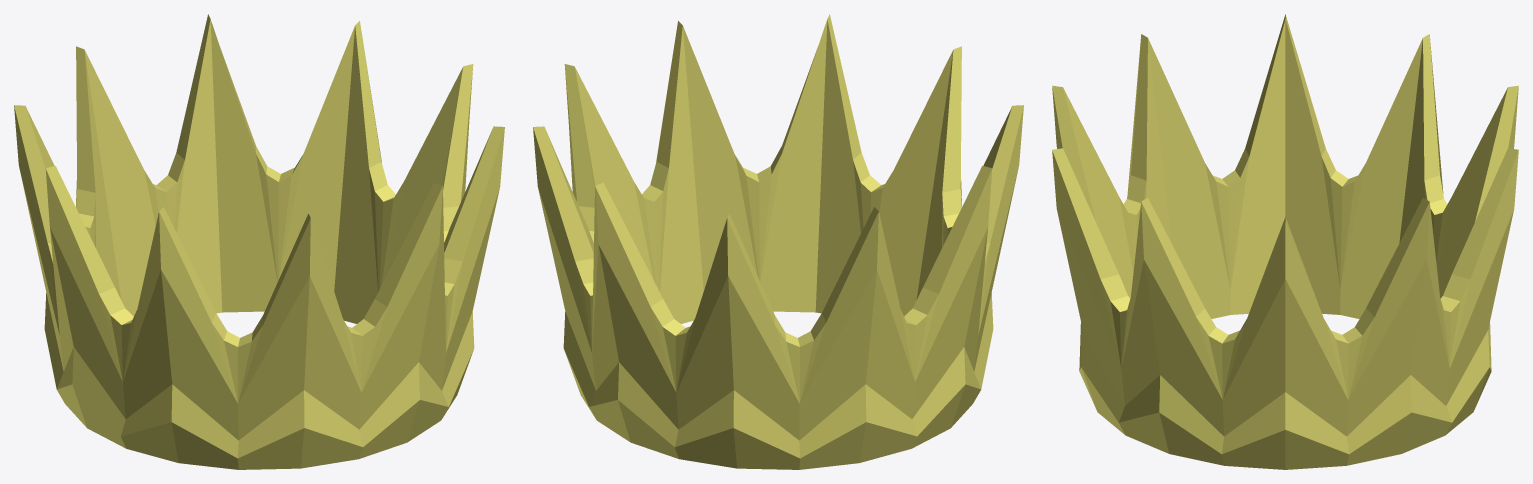
File: crown.fbx
3 views of the same model, side by side, from view 1: azimuth 30°, elevation 25°; view 2: azimuth 150°, elevation 25°; view 3: azimuth 270°, elevation 25° (orthographic).
Visible parts, largest first — view 1: Cylinder; view 2: Cylinder; view 3: Cylinder.
Boxes of the visible parts, left/top/right/bottom form: Cylinder: left=14, top=14, right=504, bottom=469; Cylinder: left=533, top=14, right=1023, bottom=469; Cylinder: left=1052, top=14, right=1518, bottom=469.
Bounding box in the file's own units: 248 × 150 × 236.
